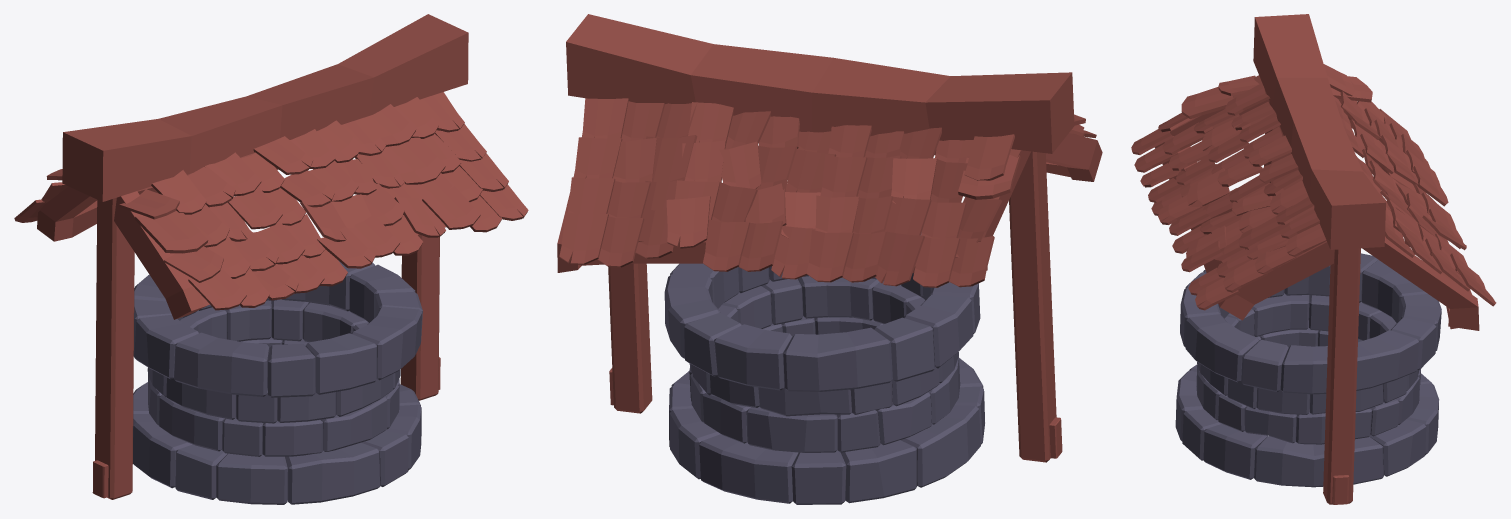
File: Pozo.fbx
3 renders of one model, left to right at view 1: azimuth 30°, elevation 25°; view 2: azimuth 150°, elevation 25°; view 3: azimuth 270°, elevation 25°, orthographic. The views are drawn at different scales.
Parts seen in each view (by area): view 1: Plane.069; view 2: Plane.069; view 3: Plane.069.
Boxes of the visible parts, <box> form: Plane.069: <box>14,14,528,504</box>; Plane.069: <box>557,14,1102,504</box>; Plane.069: <box>1131,14,1496,504</box>.
Bounding box in the file's own units: 0.6006 × 0.5107 × 0.5104.
